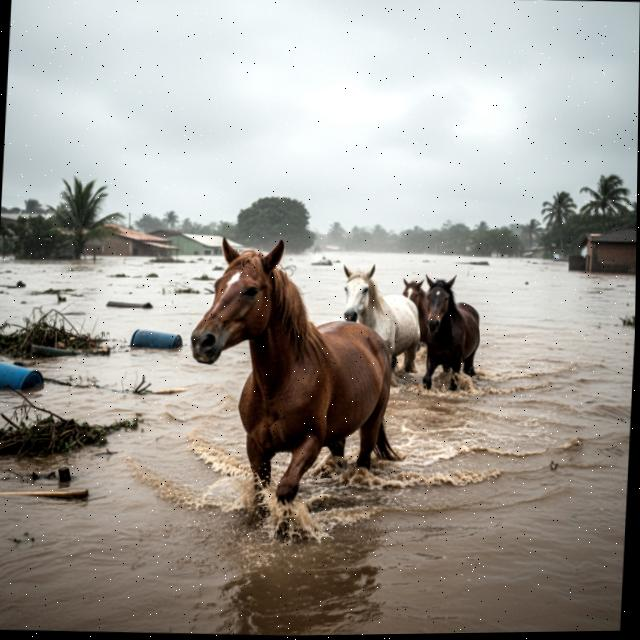horse: (172, 225, 407, 514), (317, 246, 425, 374), (383, 272, 491, 395), (395, 277, 432, 325)
